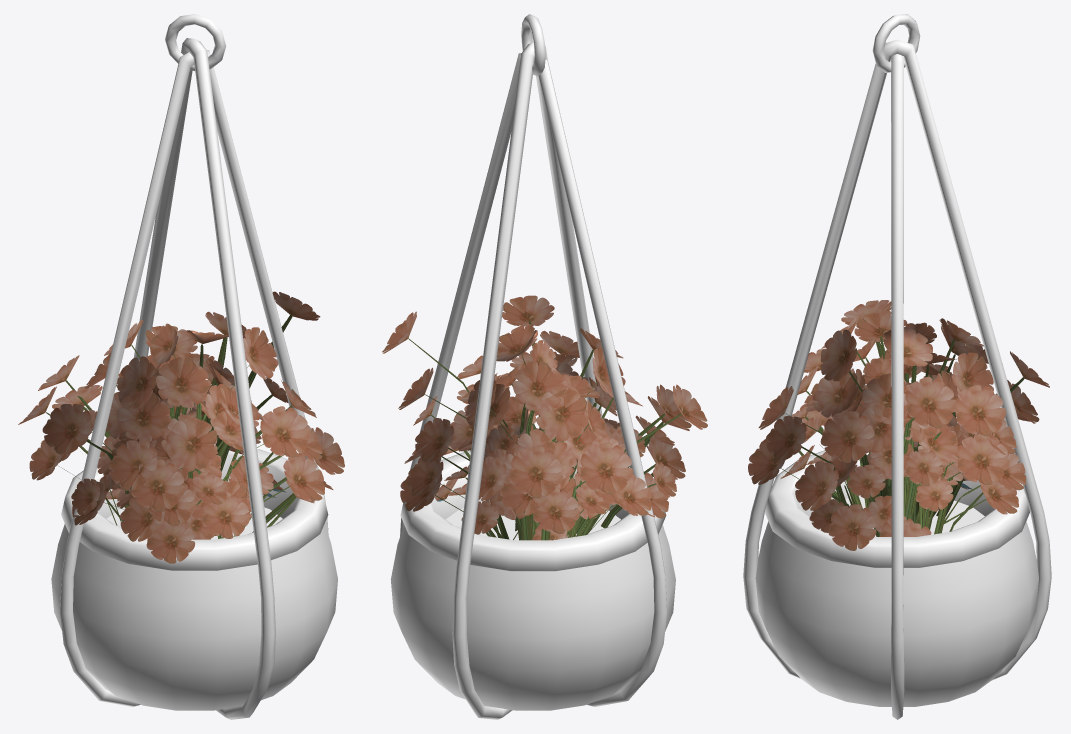
File: SM_Potted_Soft_Pink_Flower_E.fbx
3 views of the same model, side by side, from view 1: azimuth 30°, elevation 25°; view 2: azimuth 150°, elevation 25°; view 3: azimuth 270°, elevation 25° (orthographic).
Parts seen in each view (by area): view 1: SM_Potted_Soft_Pink_Flower_E_LOD0; view 2: SM_Potted_Soft_Pink_Flower_E_LOD0; view 3: SM_Potted_Soft_Pink_Flower_E_LOD0.
Part boxes in pixels (<box>): SM_Potted_Soft_Pink_Flower_E_LOD0: <box>18,14,344,719</box>; SM_Potted_Soft_Pink_Flower_E_LOD0: <box>382,14,707,719</box>; SM_Potted_Soft_Pink_Flower_E_LOD0: <box>743,14,1051,719</box>.
Bounding box in the file's own units: 33.38 × 30.23 × 71.54.
Materials: 2 (1 with a texture image).
